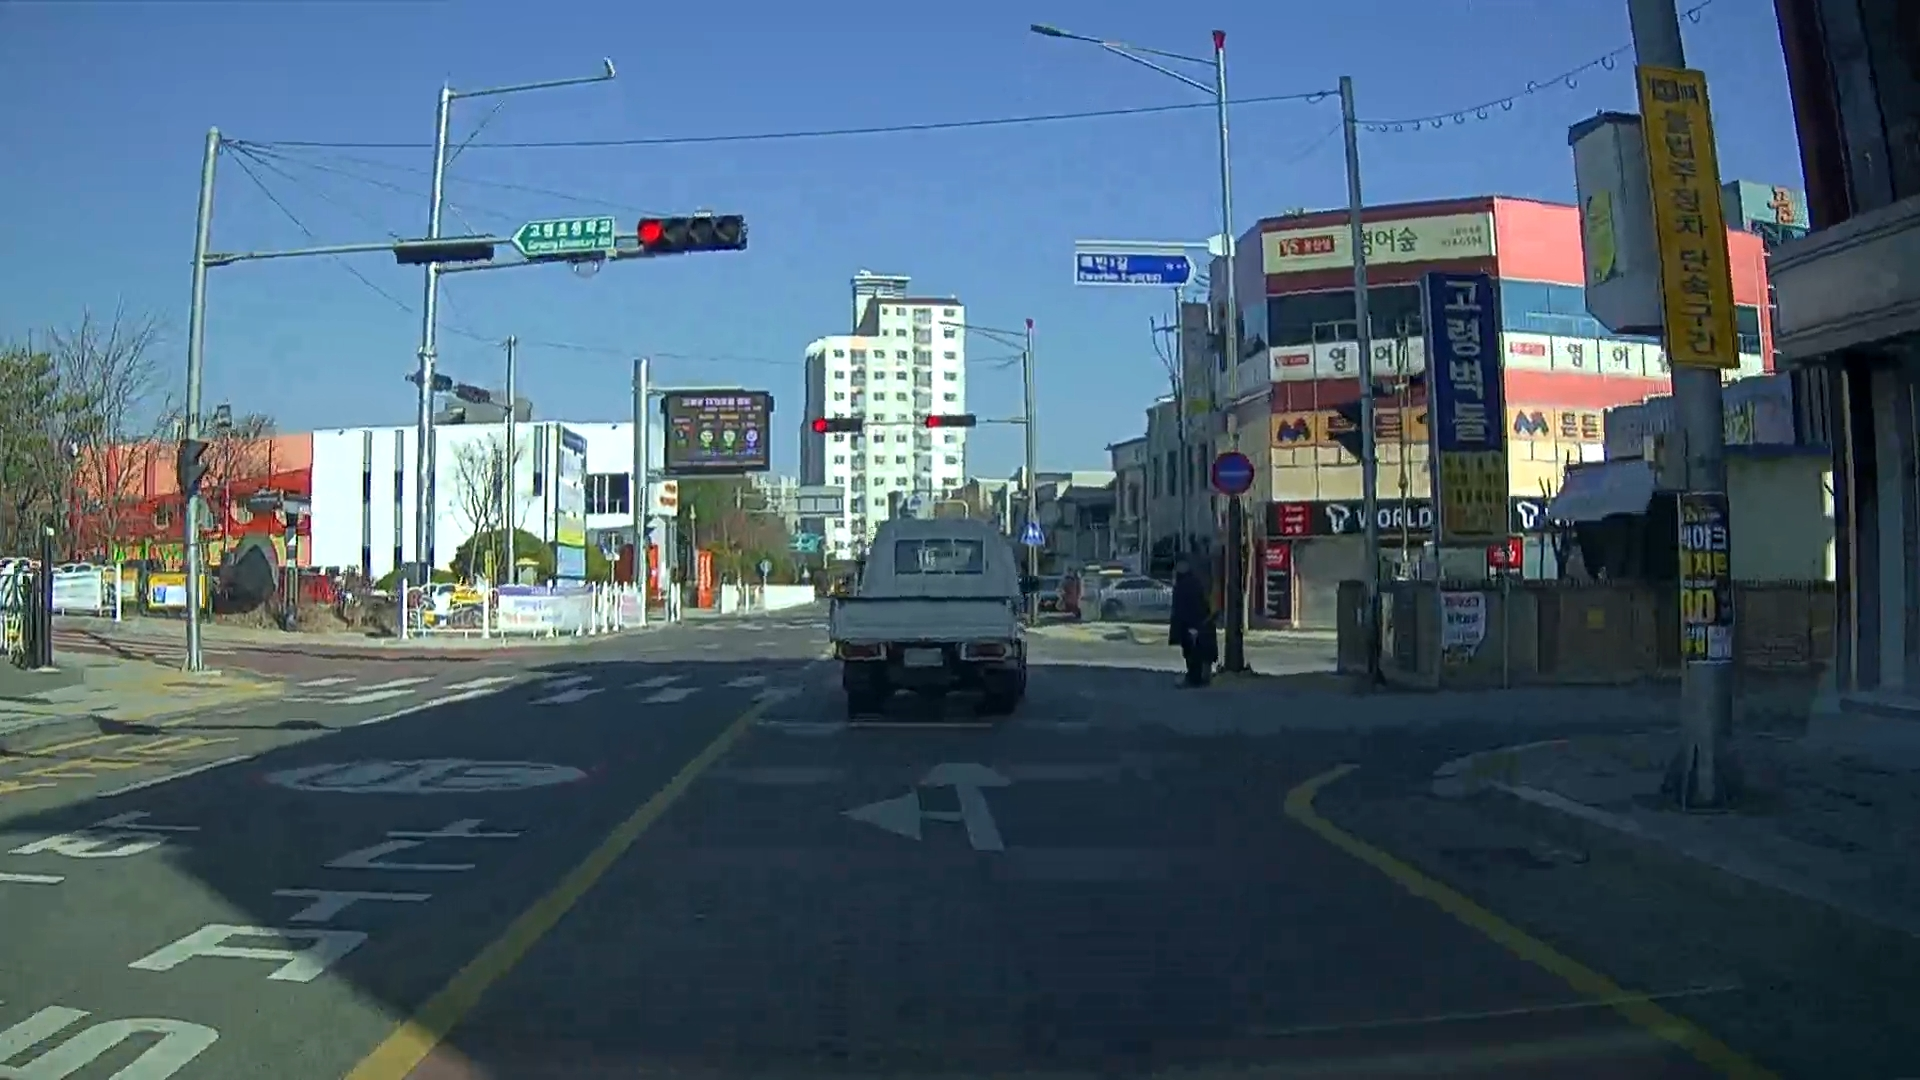trafficLight: (638, 216, 752, 251), (812, 414, 864, 436), (923, 414, 975, 429)
trafficSignCircle: (1213, 448, 1255, 498)
trafficSignTri: (1021, 520, 1047, 549)
